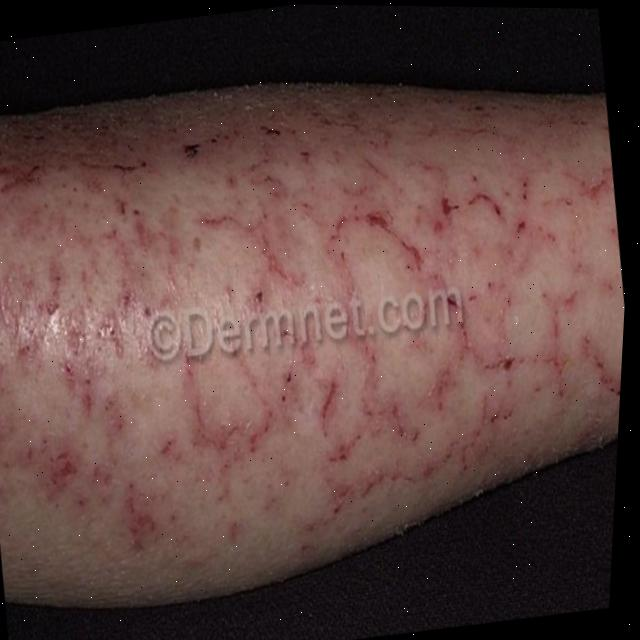Eczema: (0, 38, 638, 526)
